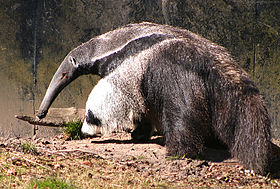TamanduaBandeira: (32, 17, 275, 175)
